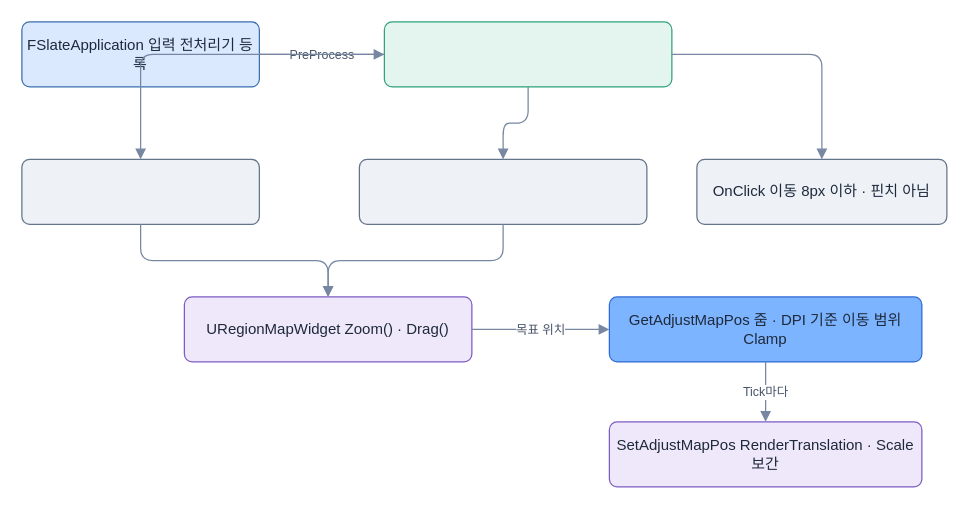
The diagram is 969 pixels wide and 509 high, and some of its shapes have lost their labels. The shapes that lost their labels are listed below. From the top down, each one's centre as x and y in pixels, then its label:
At (x=527, y=54): "FWidgetInputProcessor 터치 · 마우스 판별".
At (x=140, y=191): "OnZoom 핀치 거리 변화 · 휠".
At (x=502, y=191): "OnDrag 한 손가락 · 마우스 누름 이동".
